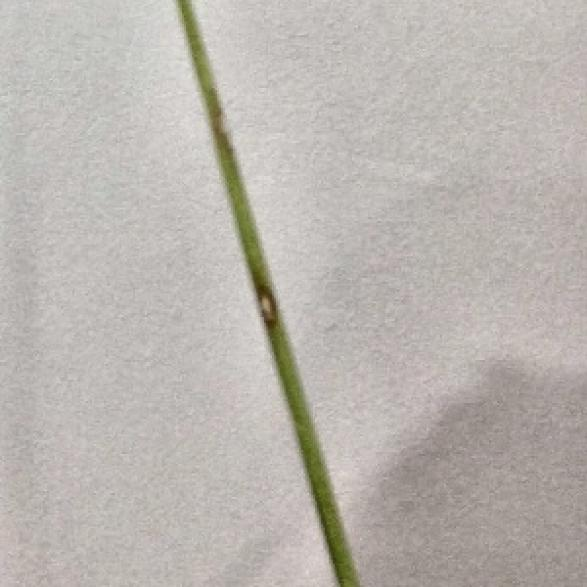Leaf_smut: (194, 84, 241, 153), (243, 282, 290, 330)
